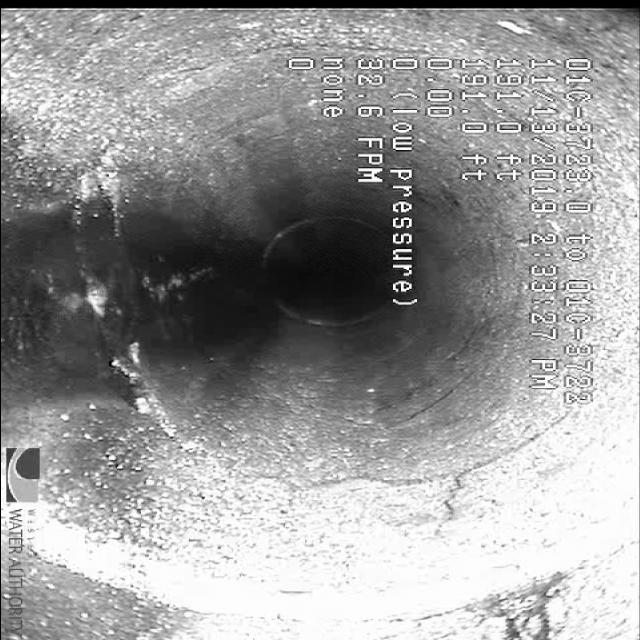Crack: (259, 424, 559, 538)
